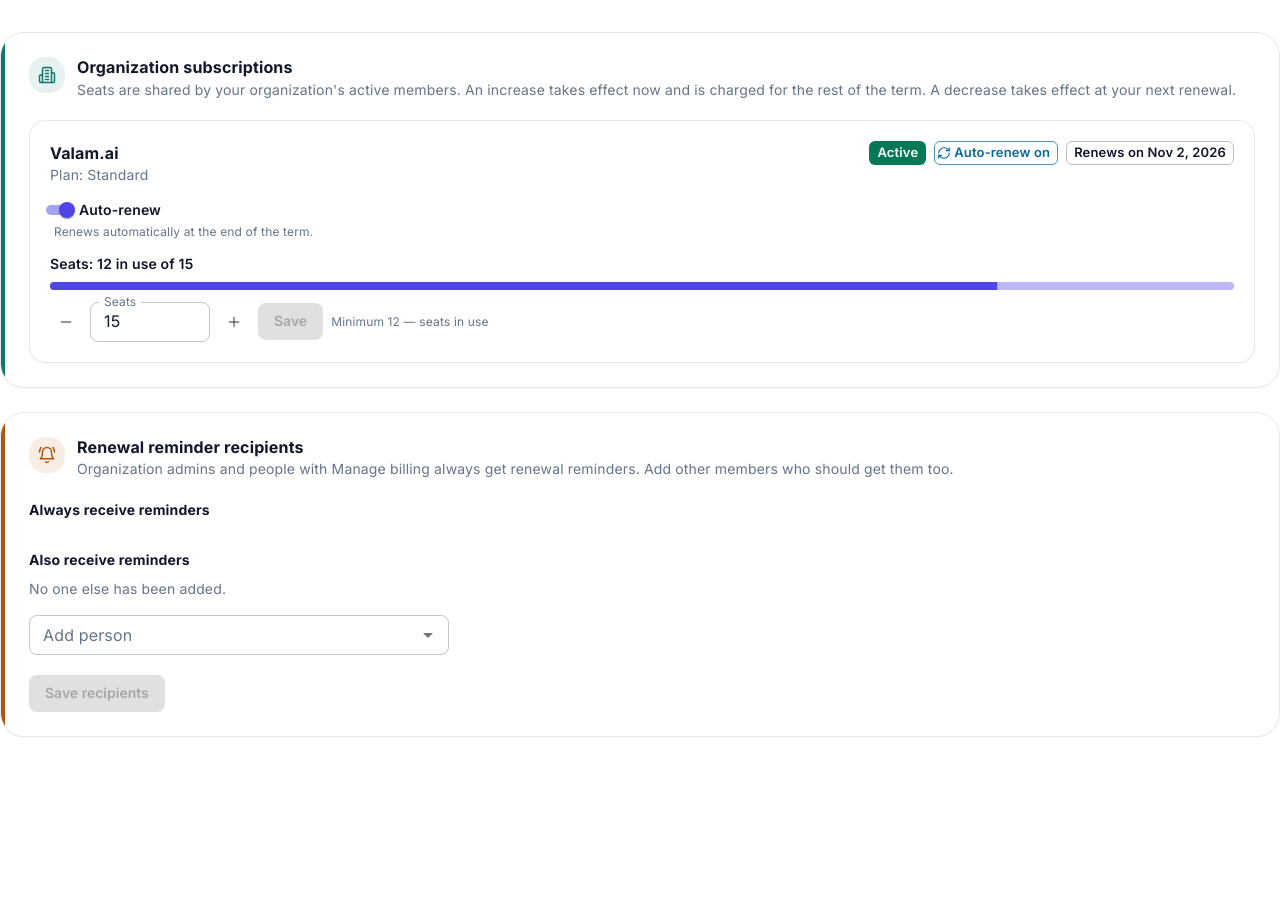
Test: OrganizationSubscriptionsSection › shows the server message when a change is refused
This screenshot has width=1280, height=900.
Expected: the text "Seats: 12 in use of 15" is shown, [50,254,193,272]
Click the button named "Add a seat". click: point(234, 322)
box: [218,306,250,338]
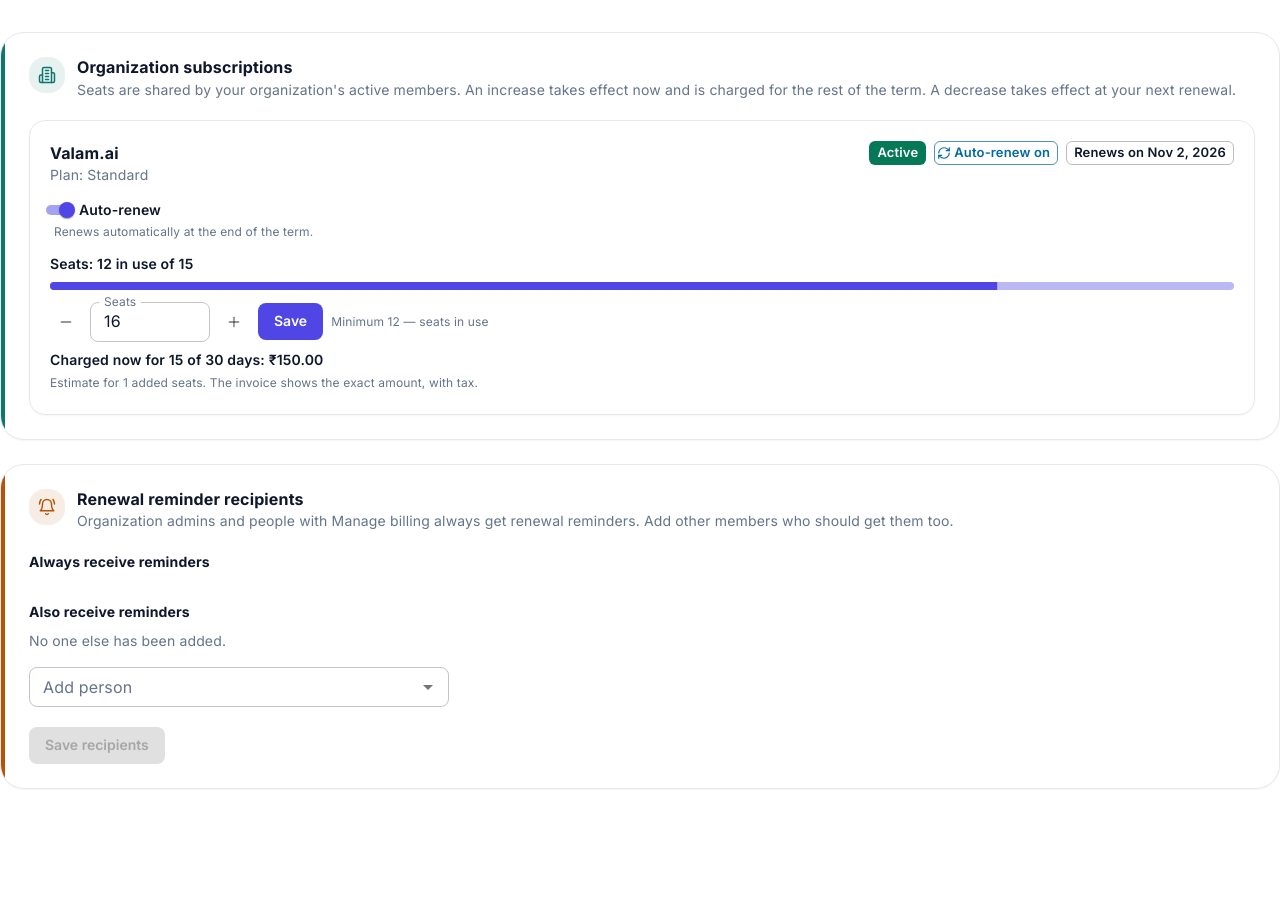
Click the button "Save". click: point(291, 322)
box: [258,303,323,340]
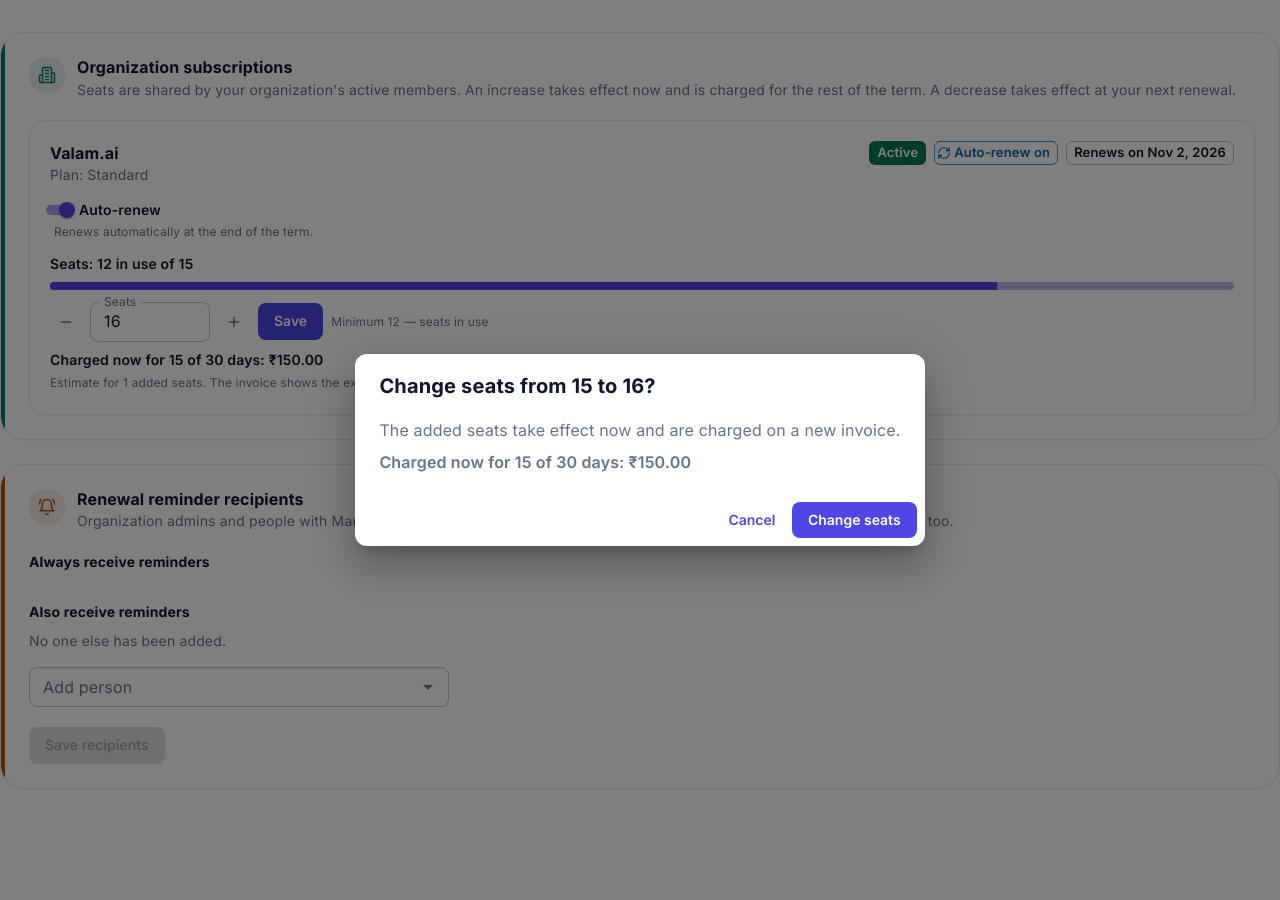
Click the button "Change seats". click: point(854, 520)
box: [792,502,917,538]
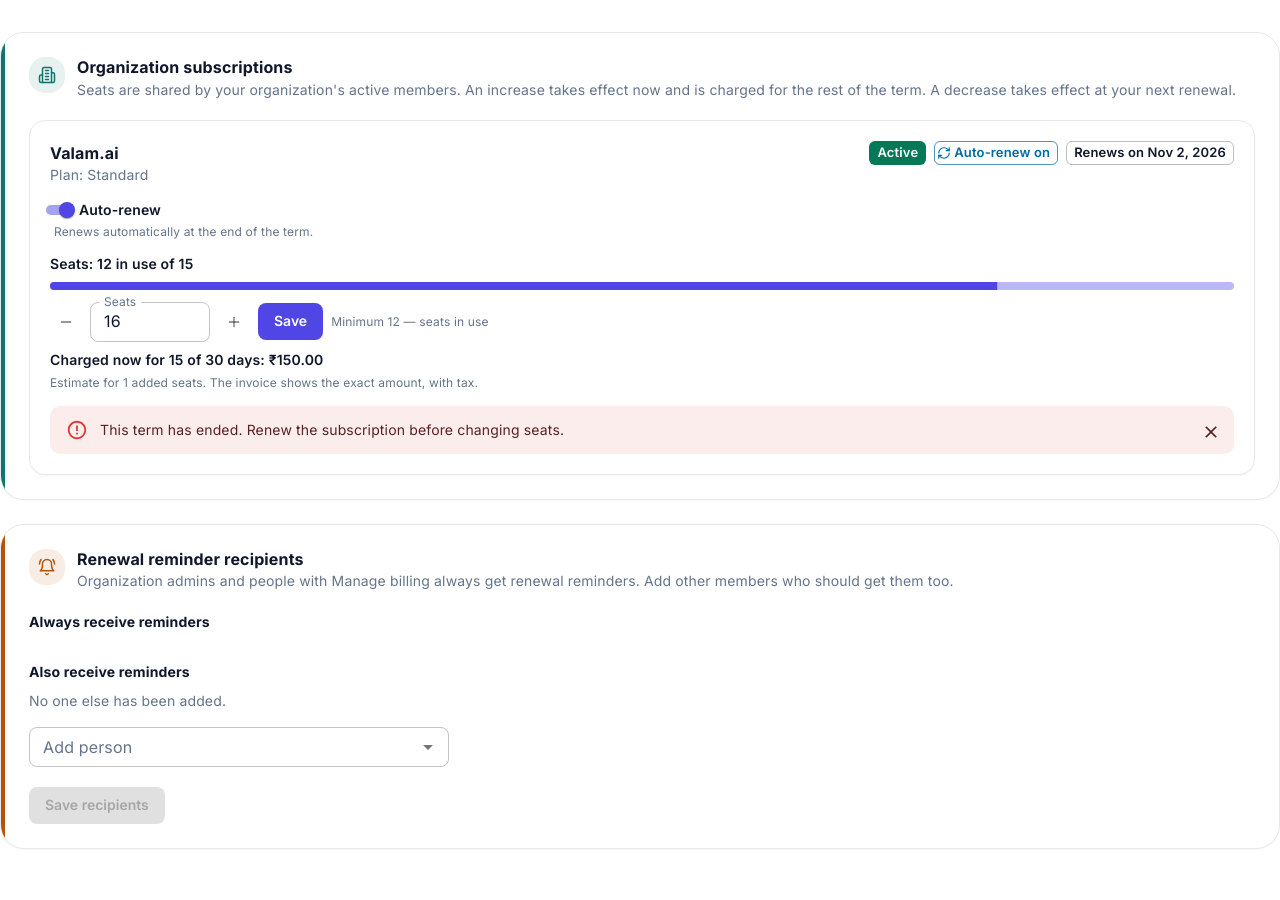
Now the text "This term has ended. Renew the subscription before changing seats." is shown, box [100,420,564,438]
